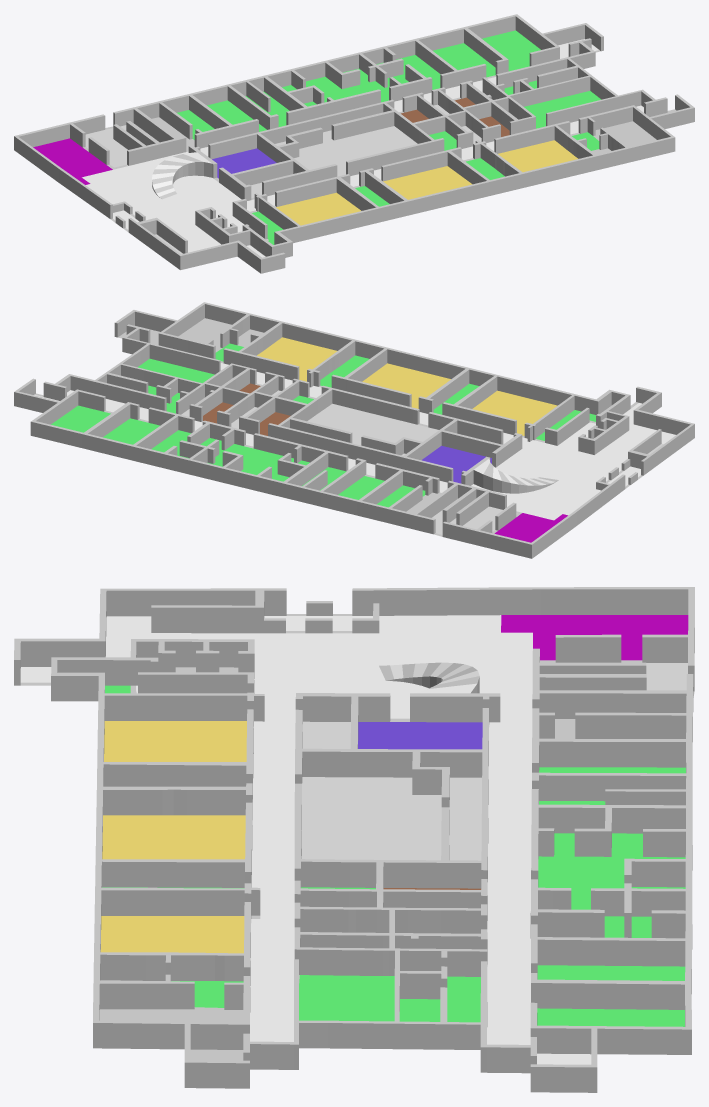
Rendered from Diplom_1flor_centered_separeted.fbx.
3 renders of one model, top to bottom at view 1: azimuth 30°, elevation 25°; view 2: azimuth 150°, elevation 25°; view 3: azimuth 270°, elevation 25°, orthographic. The views are drawn at different scales.
Visible parts, largest first — view 1: 1 floor_wall, 1 floor_ground, 1 floor_ups; view 2: 1 floor_wall, 1 floor_ground, 1 floor_ups; view 3: 1 floor_wall, 1 floor_ground, 1 floor_ups.
Boxes of the visible parts, x1,y1,x2,y2 form: 1 floor_wall: (14, 14, 694, 273); 1 floor_ground: (33, 30, 676, 257); 1 floor_ups: (152, 152, 212, 199); 1 floor_wall: (14, 302, 694, 558); 1 floor_ground: (34, 318, 675, 542); 1 floor_ups: (473, 458, 558, 493); 1 floor_wall: (14, 587, 694, 1092); 1 floor_ground: (20, 614, 694, 1064); 1 floor_ups: (379, 662, 479, 693).
Bounding box in the file's own units: 809 × 20.13 × 485.
